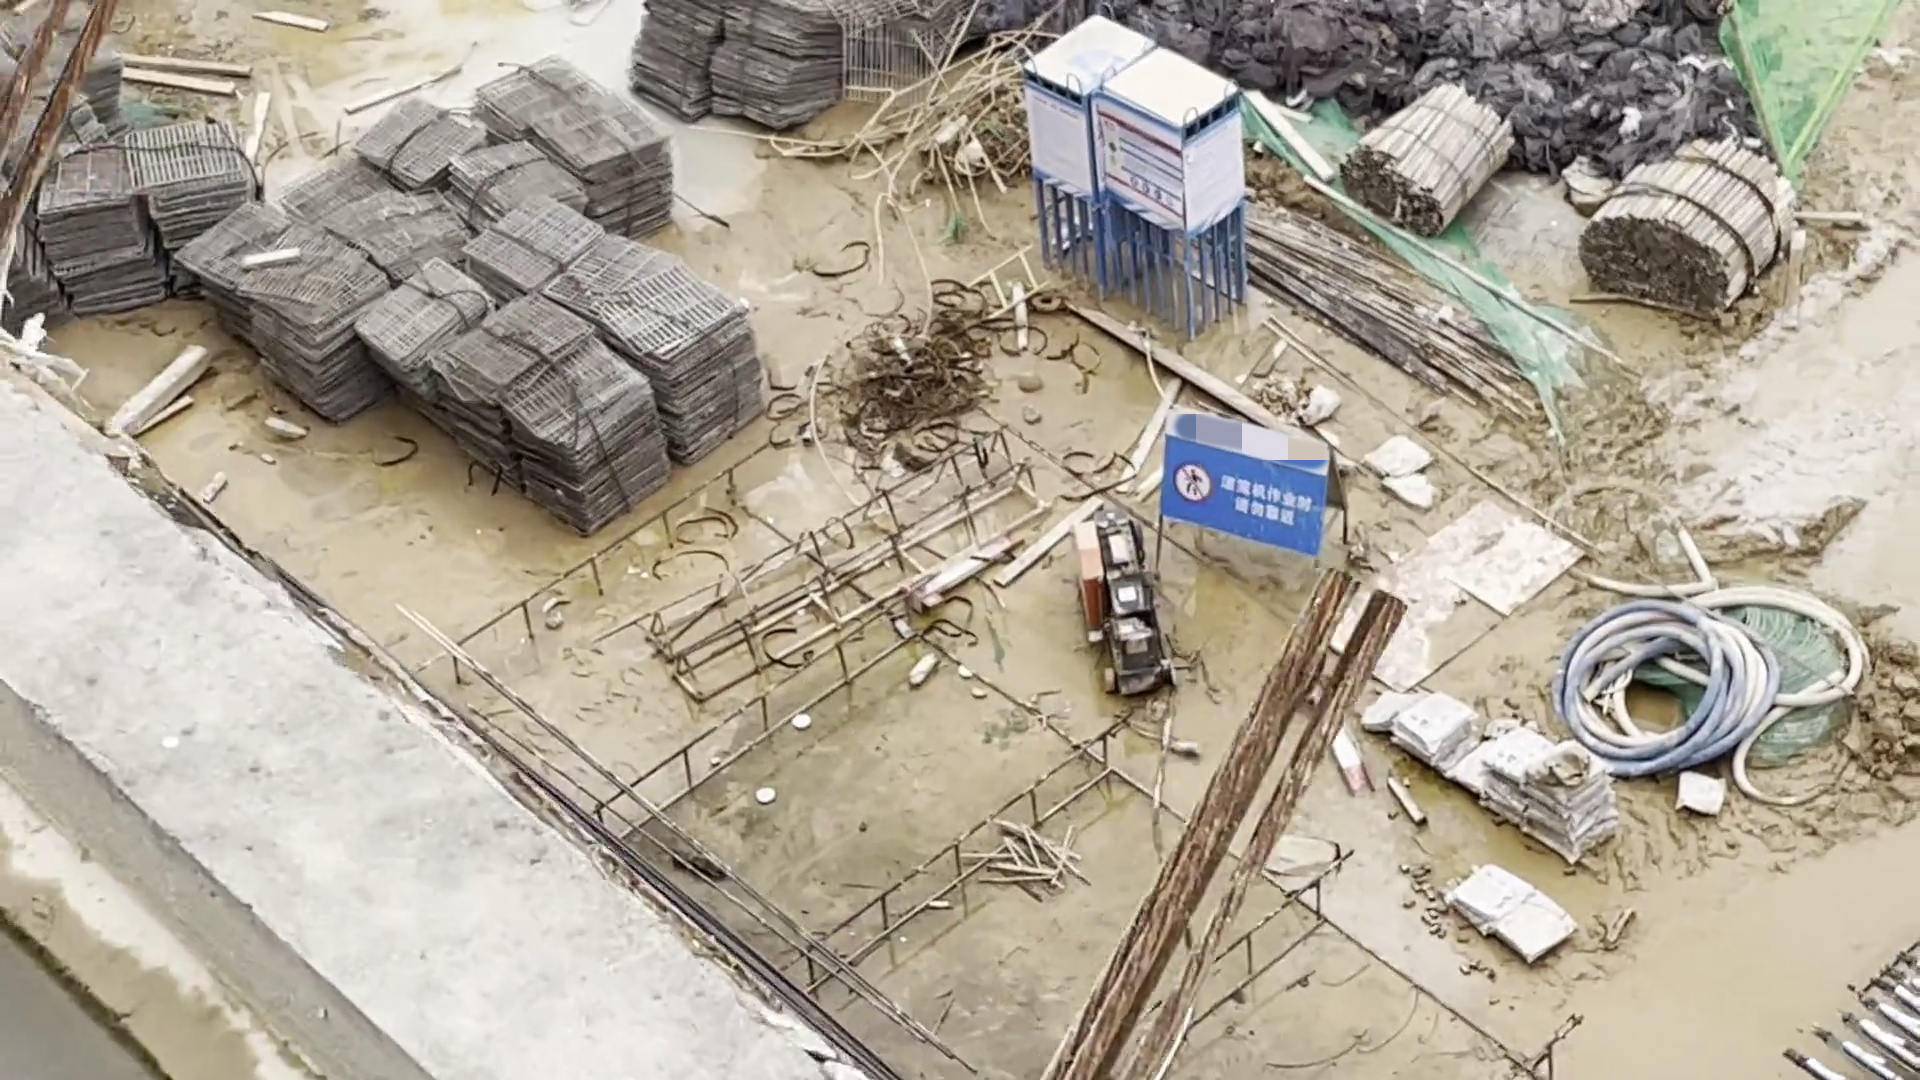slogan: (1163, 440, 1331, 542)
wood: (1582, 132, 1800, 322), (1342, 86, 1518, 243)
